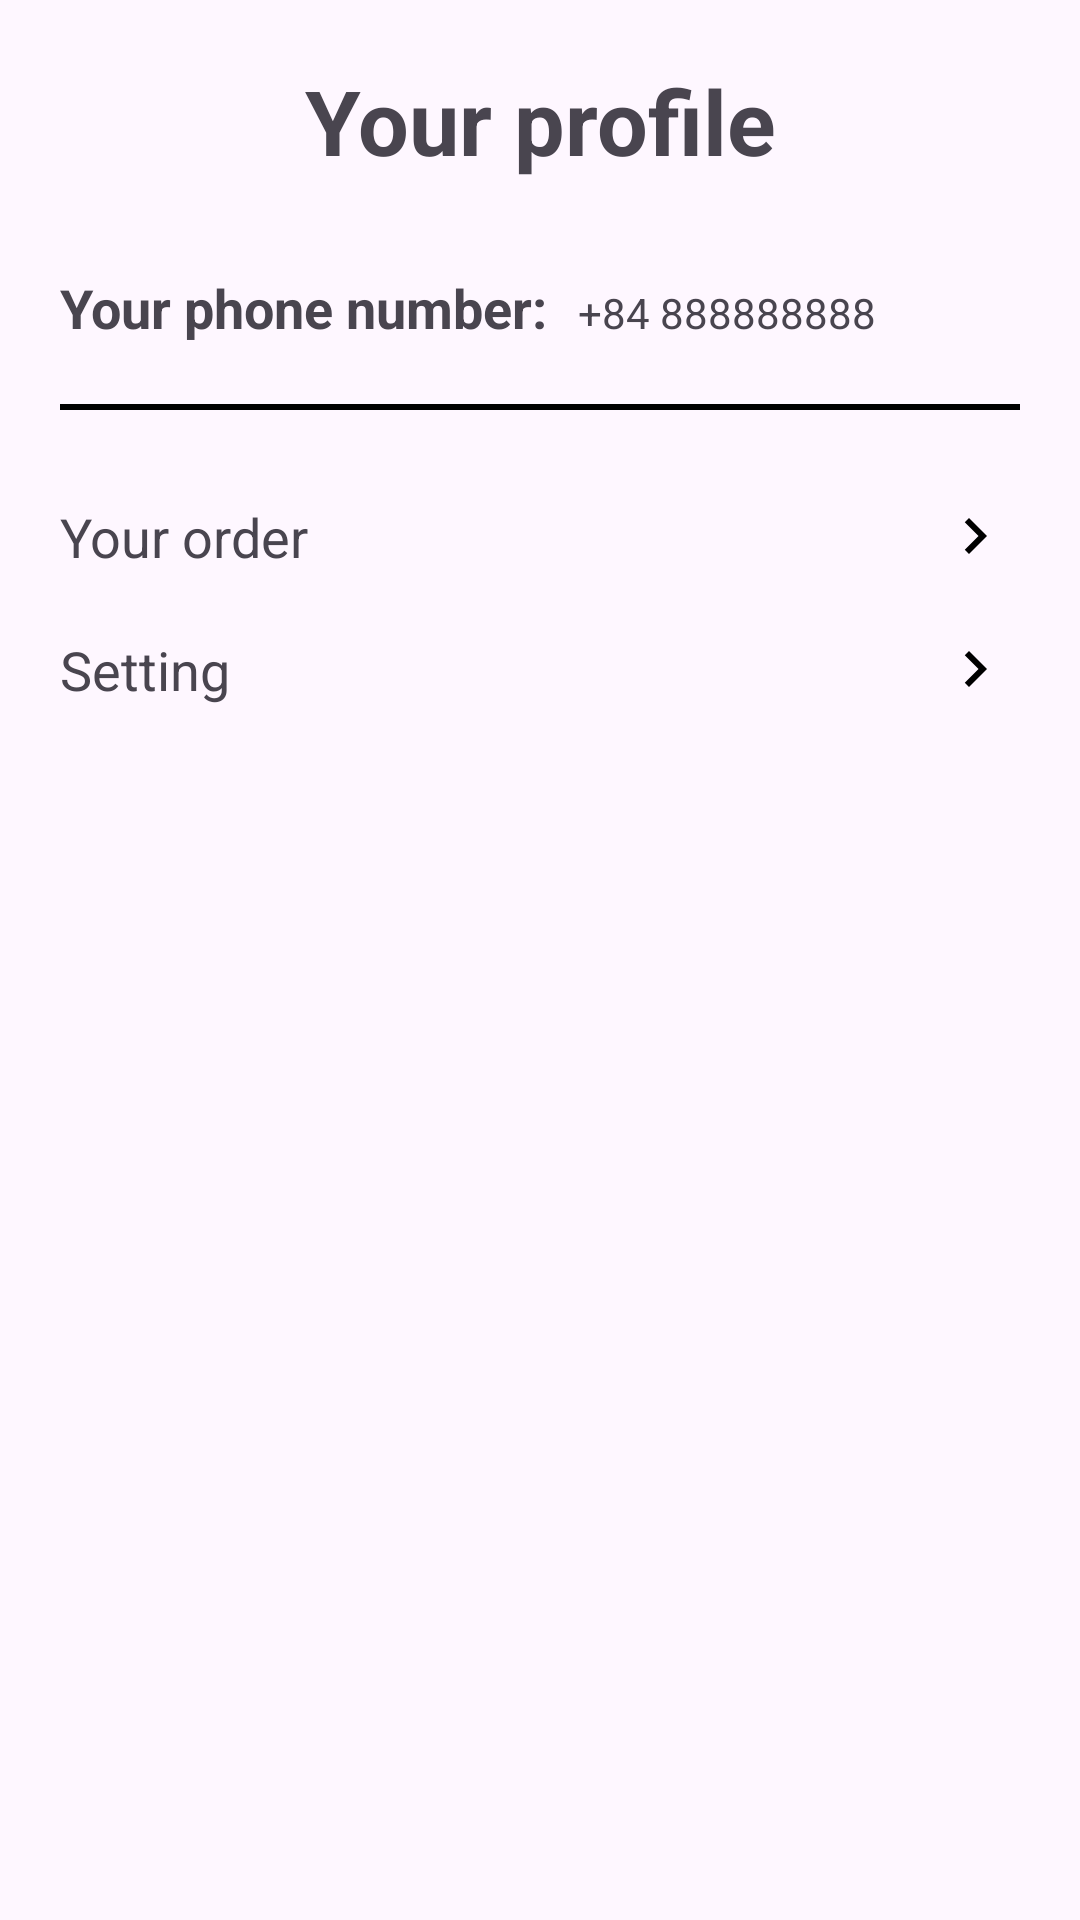

Screen size 1080w x 1920h. Icon name, then its center in pixels as (x,y):
next: (976,536), (976,669)
